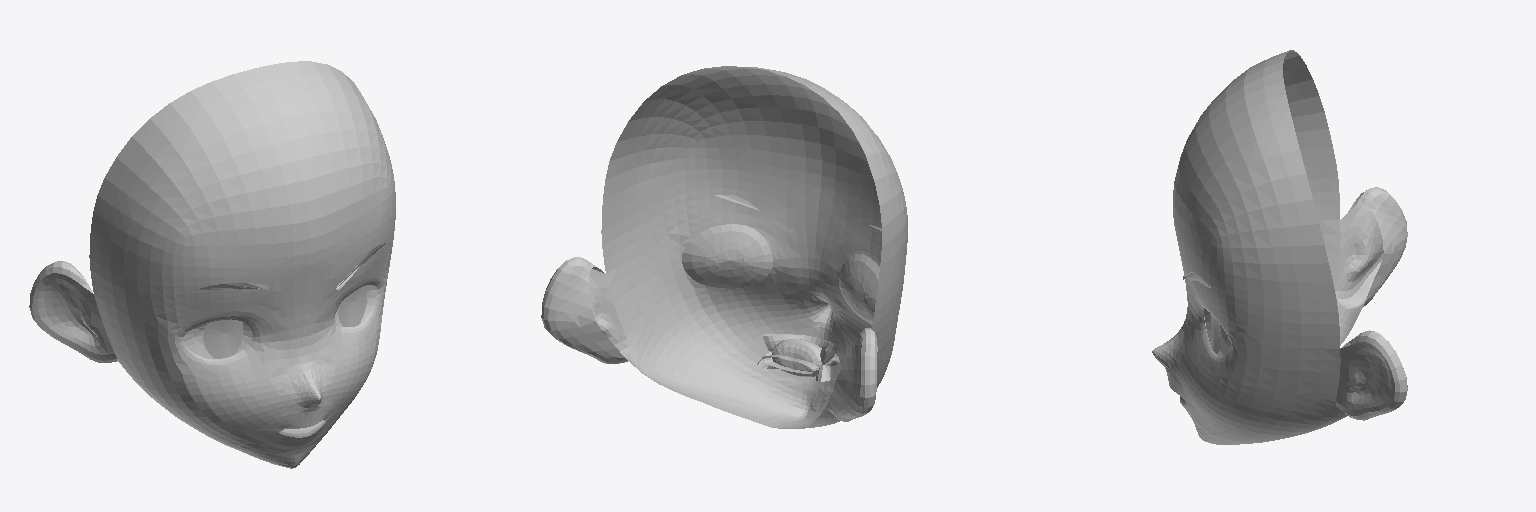
File: noseSneerLeft.obj
3 views of the same model, side by side, from view 1: azimuth 30°, elevation 25°; view 2: azimuth 150°, elevation 25°; view 3: azimuth 270°, elevation 25° (orthographic).
Visible parts, largest first — view 1: Face; view 2: Face; view 3: Face.
Part boxes in pixels (x1,y1,x2,y2): Face: (29,61,395,468); Face: (541,66,907,428); Face: (1152,50,1407,444).
Size of the model in its own units: 0.2176 by 0.2333 by 0.1449.